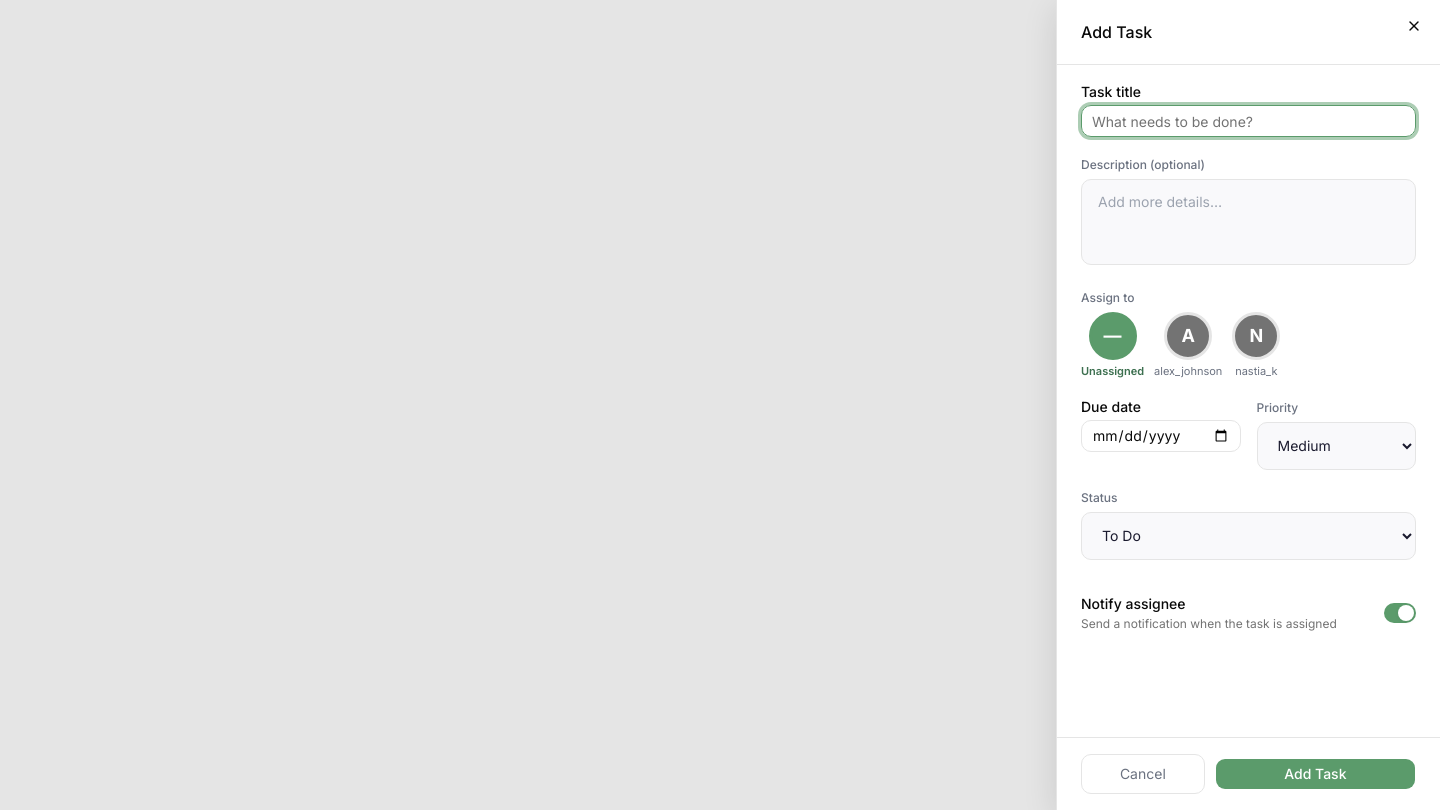
Test: TaskDrawer › surfaces an inline error on a 400 response
Type "Book flights" into the field labelled "Task title" at (1248, 121), box [1081, 105, 1416, 137]
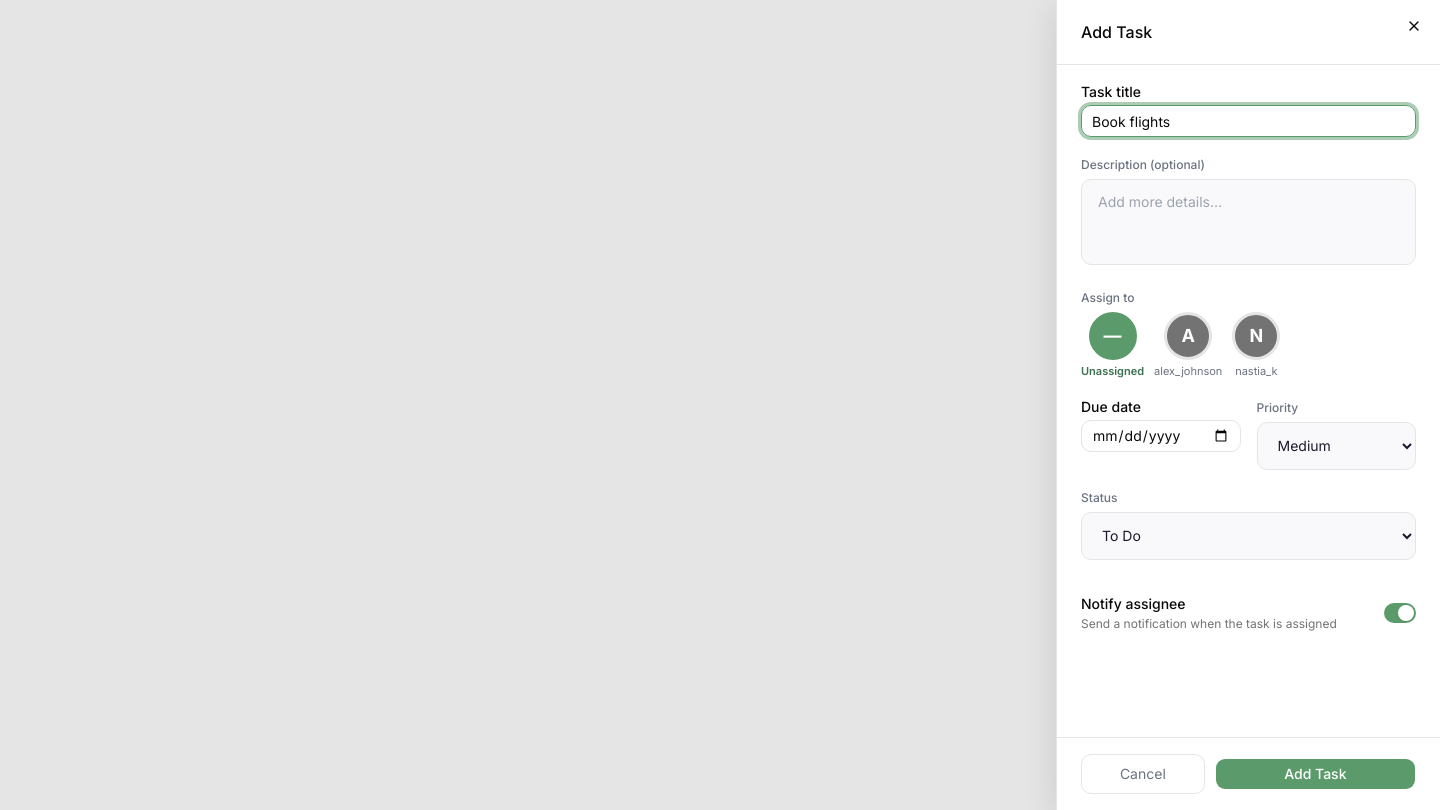
Click the button "Add Task" at (1315, 774), box [1215, 758, 1416, 790]
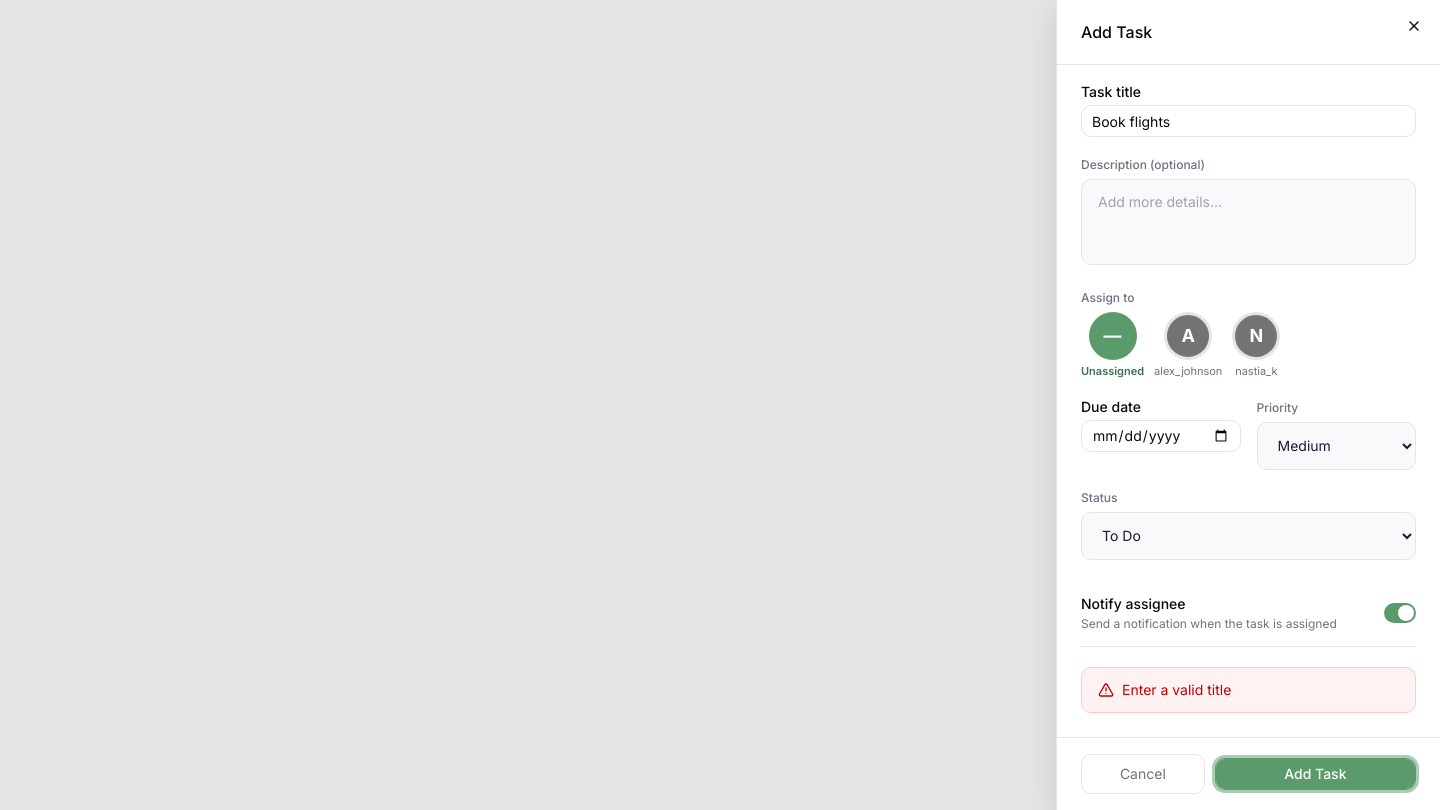
Check: the message reads "Enter a valid title", box [1122, 681, 1231, 698]
